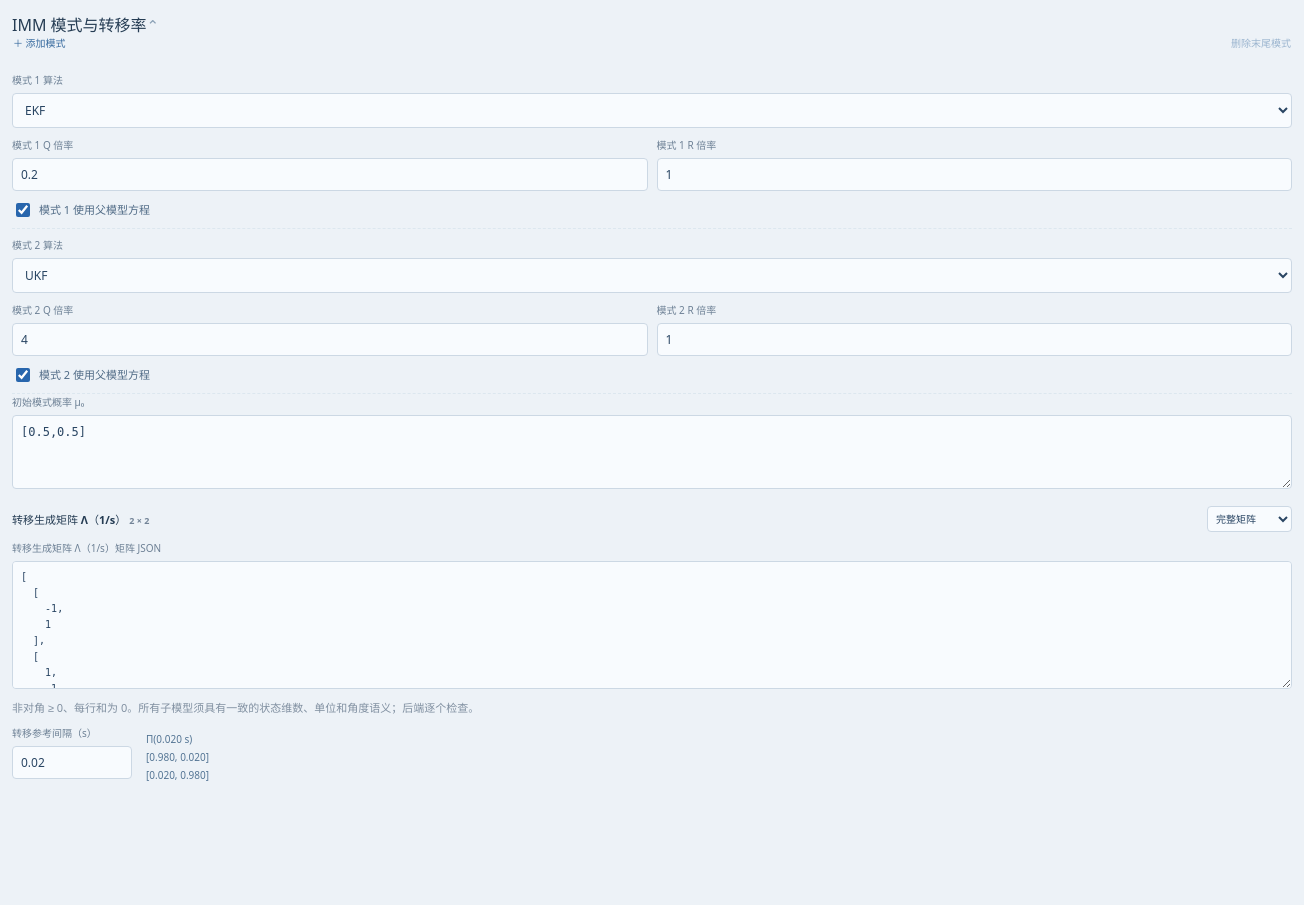
Test: starts an independent IMM mode from the current form parent rather than an old builtin snapshot
This screenshot has width=1304, height=905.
Click the checkbox labelled "模式 1 使用父模型方程" at (23, 210), box x1=16 y1=203 x2=30 y2=217
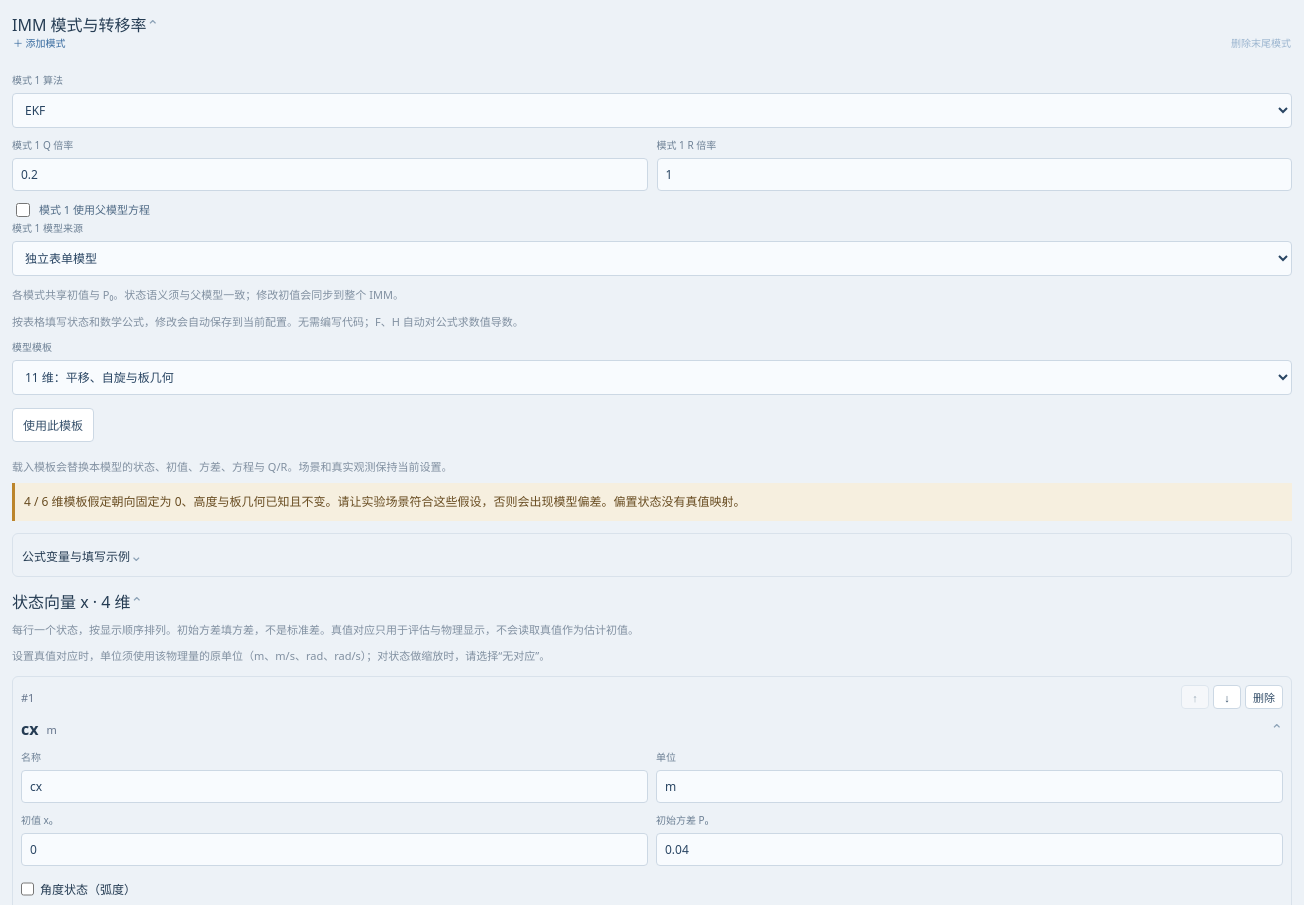
Now the field named "状态 1 名称" is shown, box x1=21 y1=770 x2=648 y2=803
